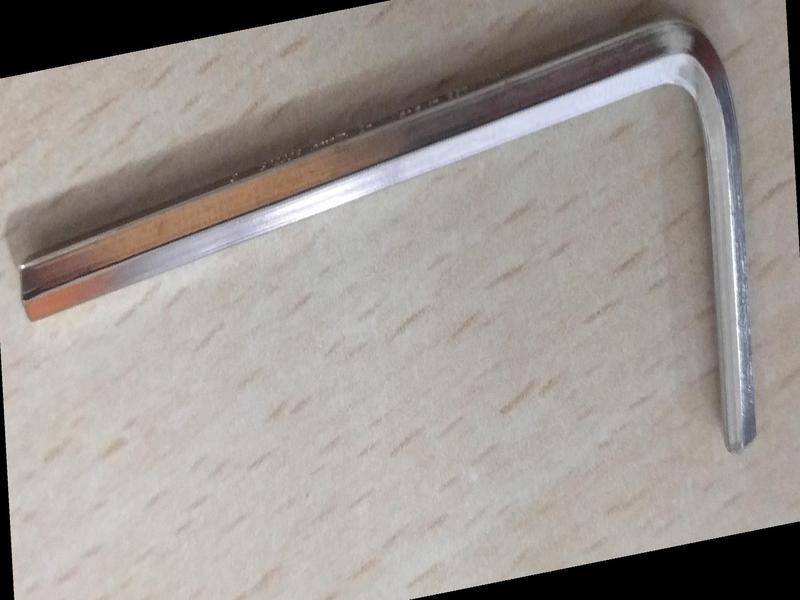turner: (33, 12, 762, 496)
